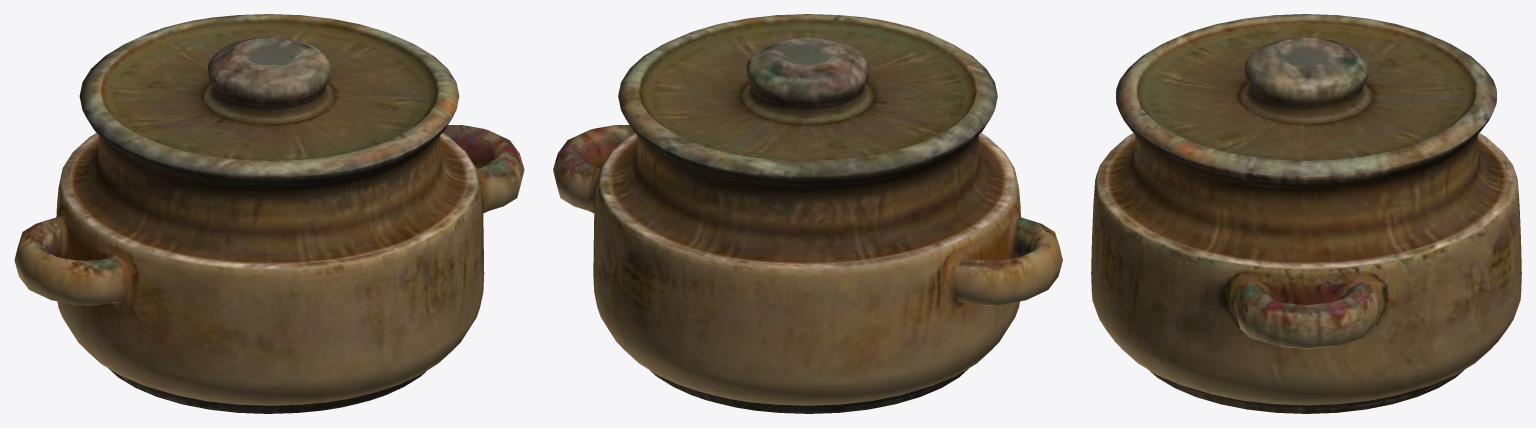
Rendered from ceramic_pot.glb.
3 renders of one model, left to right at view 1: azimuth 30°, elevation 25°; view 2: azimuth 150°, elevation 25°; view 3: azimuth 270°, elevation 25°, orthographic.
Parts seen in each view (by area): view 1: ceramic_pot; view 2: ceramic_pot; view 3: ceramic_pot.
Part boxes in pixels (x1,y1,x2,y2): ceramic_pot: (14, 14, 524, 413); ceramic_pot: (553, 14, 1062, 413); ceramic_pot: (1091, 14, 1521, 413).
Bounding box in the file's own units: 0.6563 × 0.3717 × 0.5018.
1 material, 1 textured.
